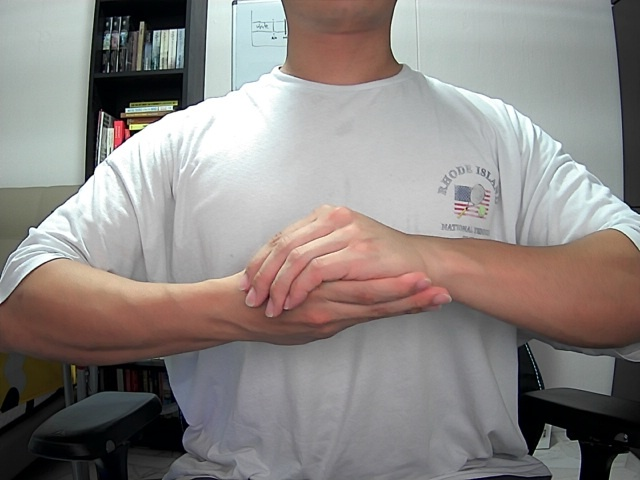Monkey: (210, 186, 459, 352)
